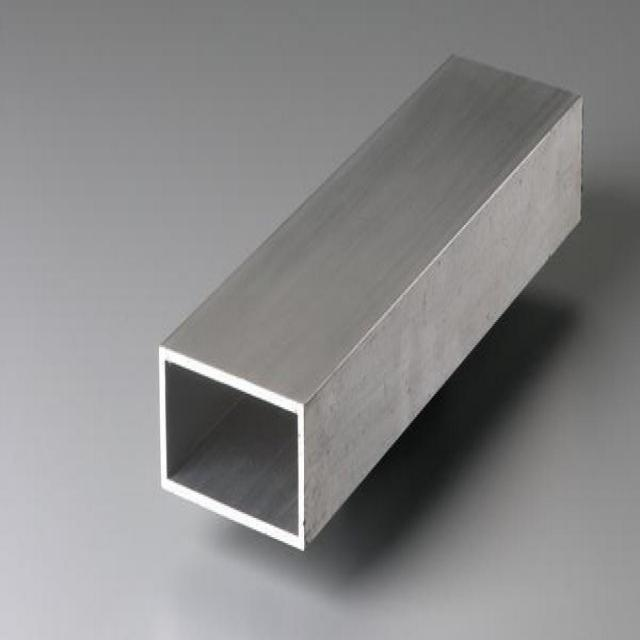pipe: (155, 340, 309, 557)
